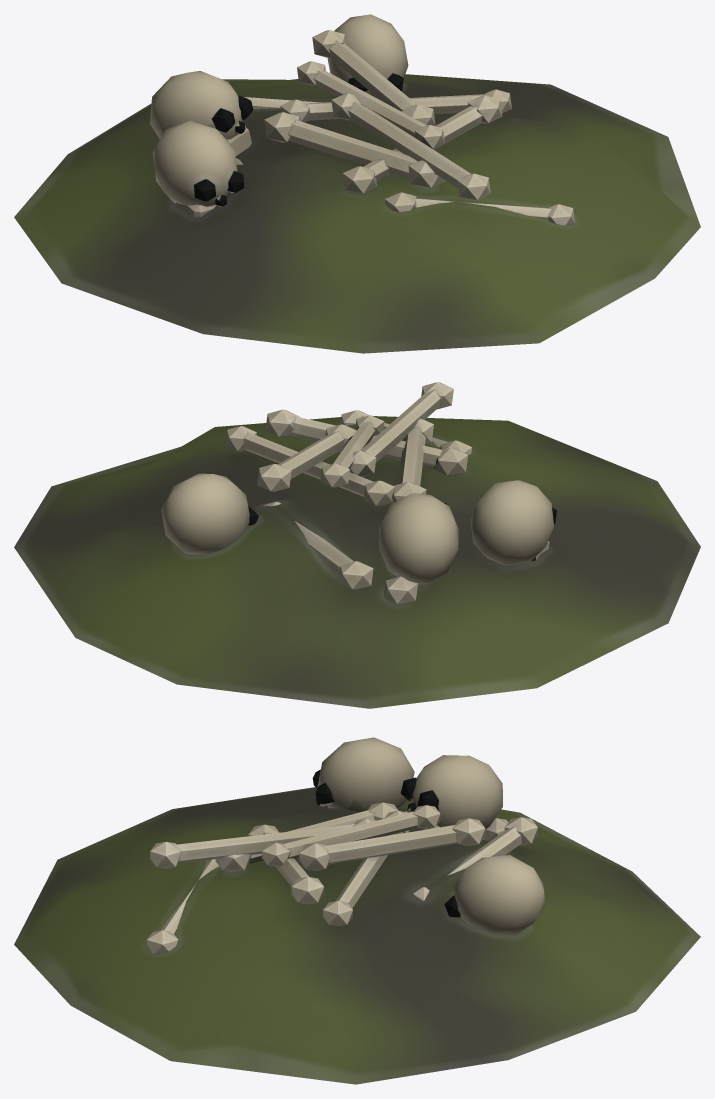
Rendered from crypt_bone_pile.glb.
3 views of the same model, one above another, from view 1: azimuth 30°, elevation 25°; view 2: azimuth 150°, elevation 25°; view 3: azimuth 270°, elevation 25° (orthographic).
Parts seen in each view (by area): view 1: crypt_bone_pile; view 2: crypt_bone_pile; view 3: crypt_bone_pile.
Part boxes in pixels (x1,y1,x2,y2): crypt_bone_pile: (14,14,700,353); crypt_bone_pile: (14,382,700,708); crypt_bone_pile: (14,737,700,1084).
Size of the model in its own units: 1.45 by 0.3198 by 1.43.
Materials: 1 (1 with a texture image).
